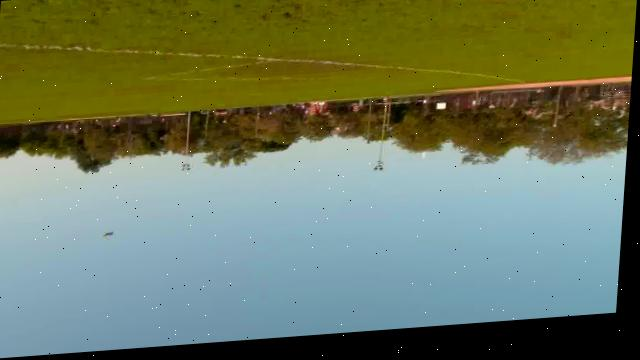drone: (103, 225, 122, 245)
